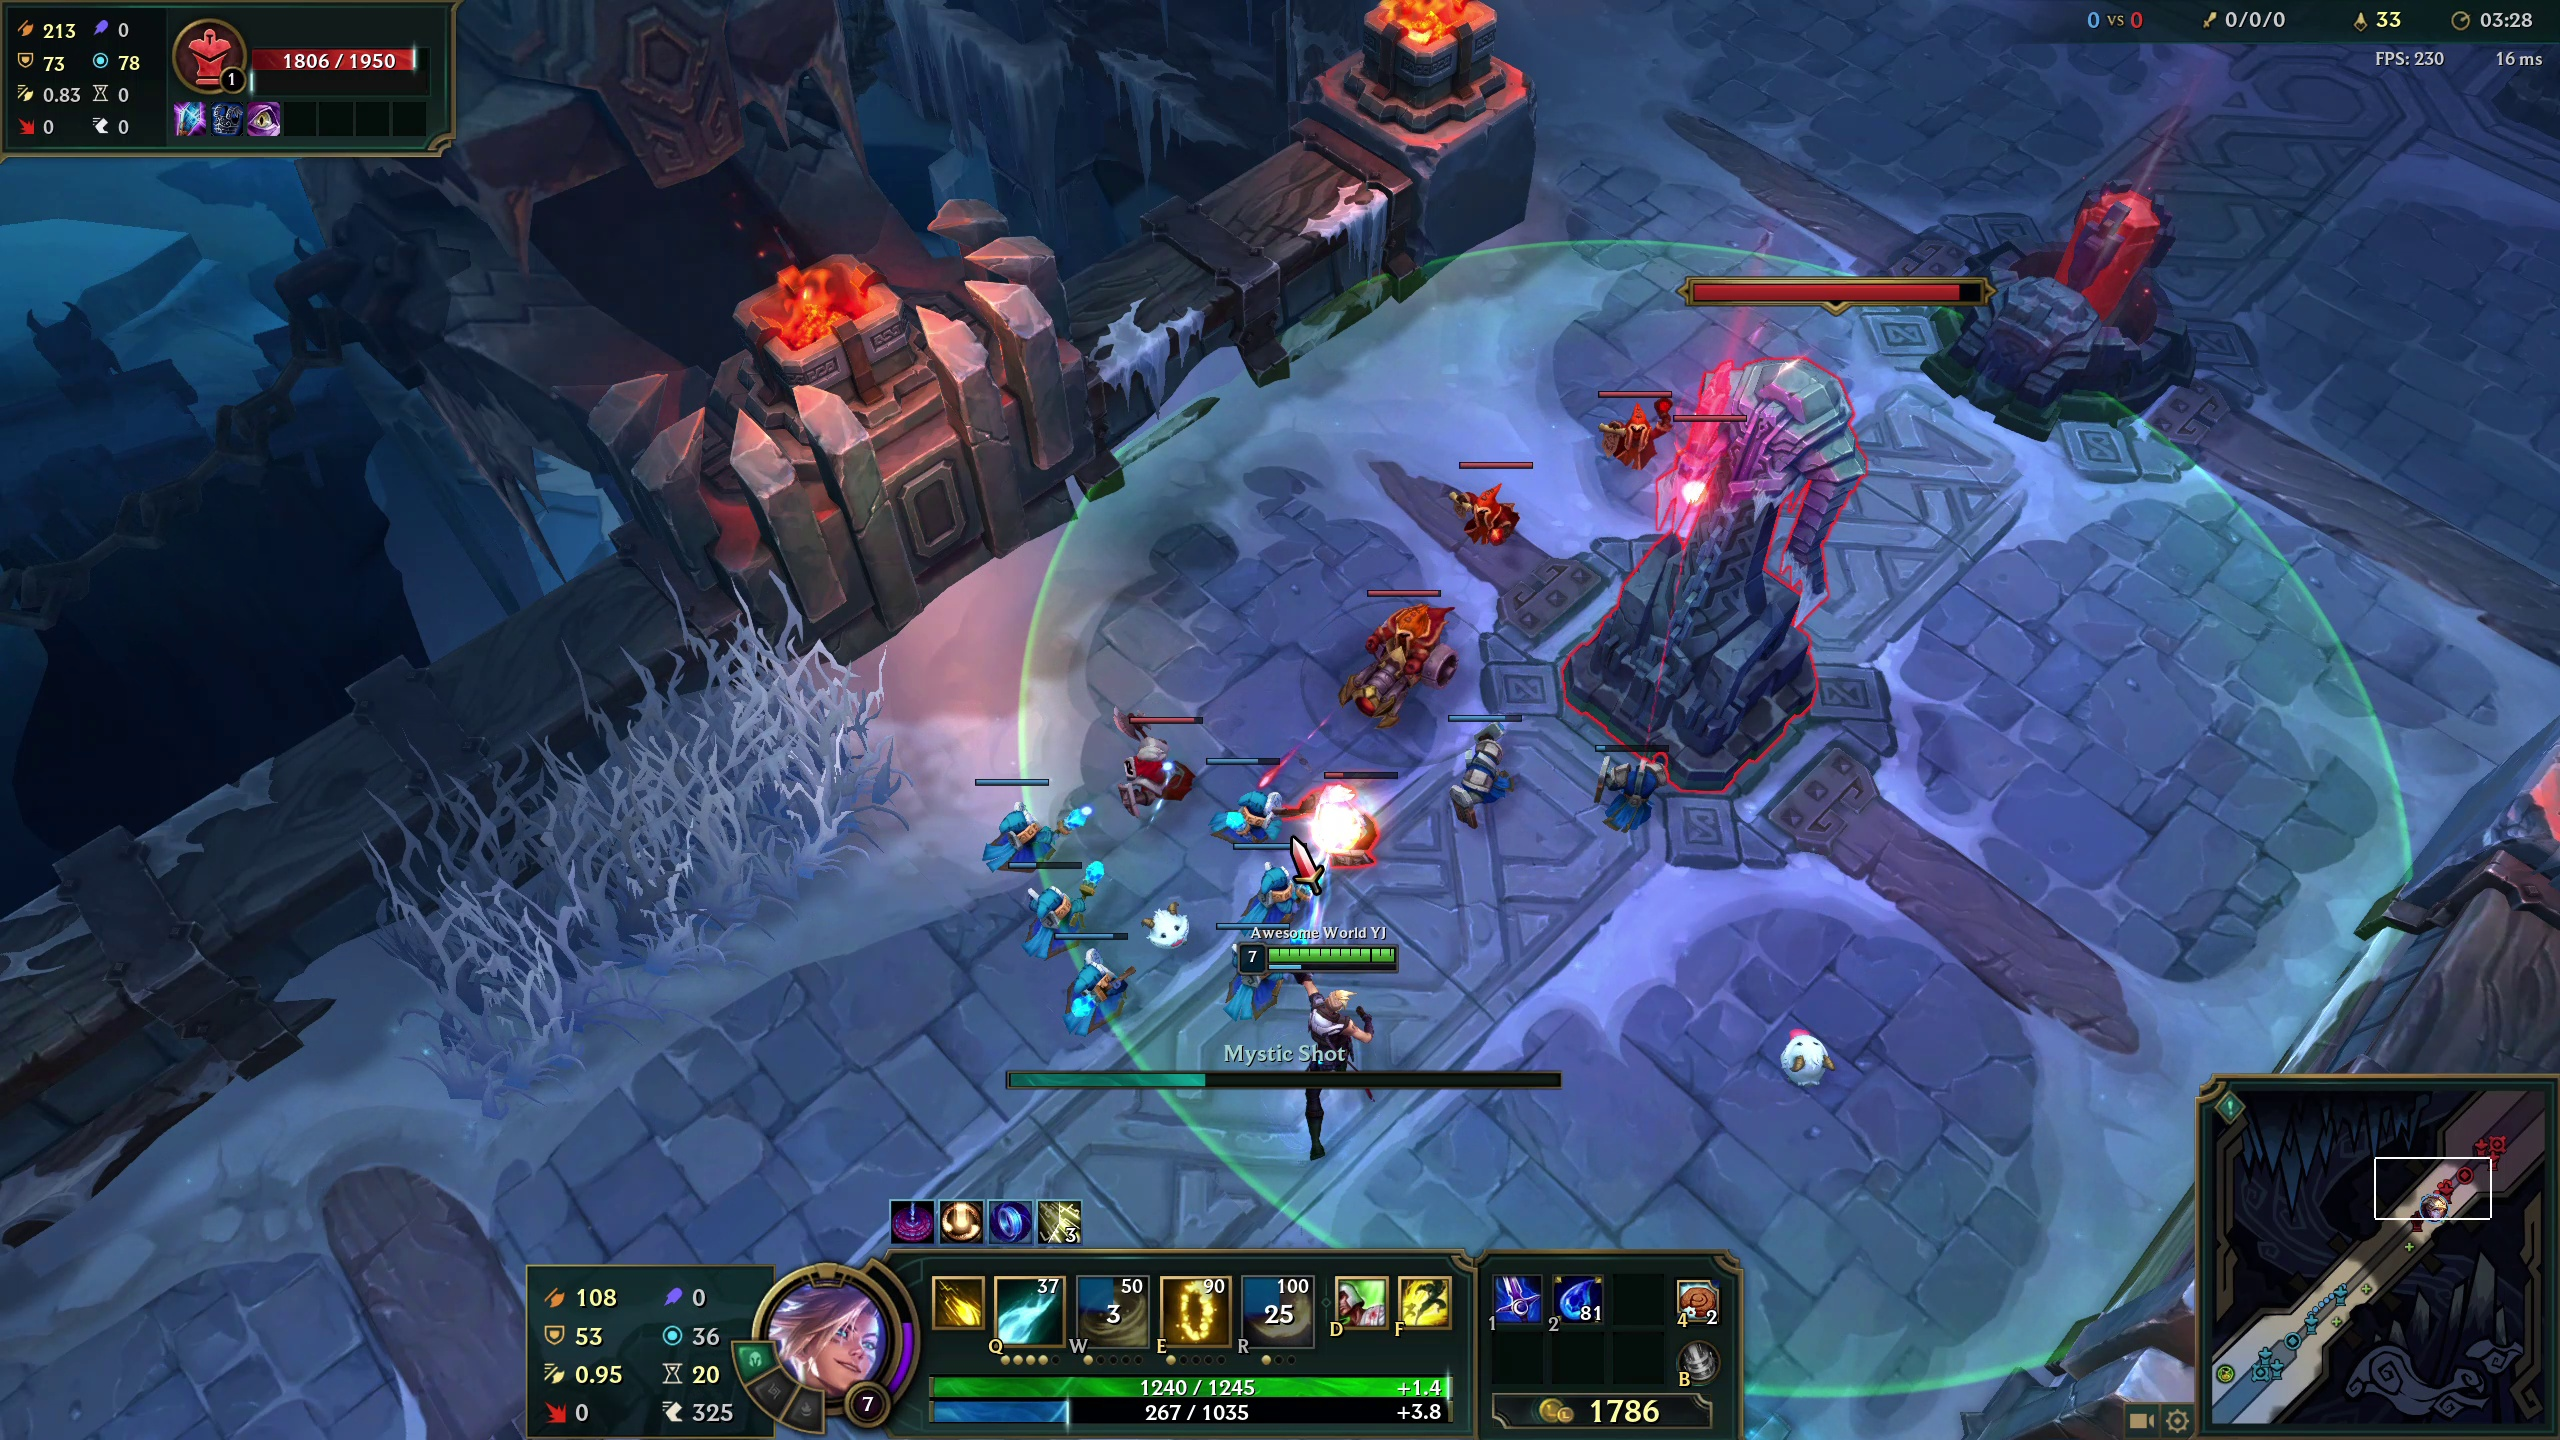EZ: (1273, 941, 1382, 1175)
EnemyMinion: (1447, 450, 1537, 547), (1111, 703, 1204, 795), (1591, 376, 1683, 468), (1305, 765, 1396, 856)
EnemySuperMinnion: (1329, 580, 1447, 721)
Glass: (464, 707, 818, 951)
Inhibitor: (1957, 225, 2191, 417)
MyMinion: (979, 768, 1065, 860), (1213, 745, 1299, 837), (1582, 737, 1669, 828), (1444, 707, 1528, 798), (1011, 858, 1095, 949), (1039, 935, 1124, 1027), (1233, 840, 1317, 932), (1201, 921, 1285, 1013)
Turret: (1605, 355, 1894, 774)
